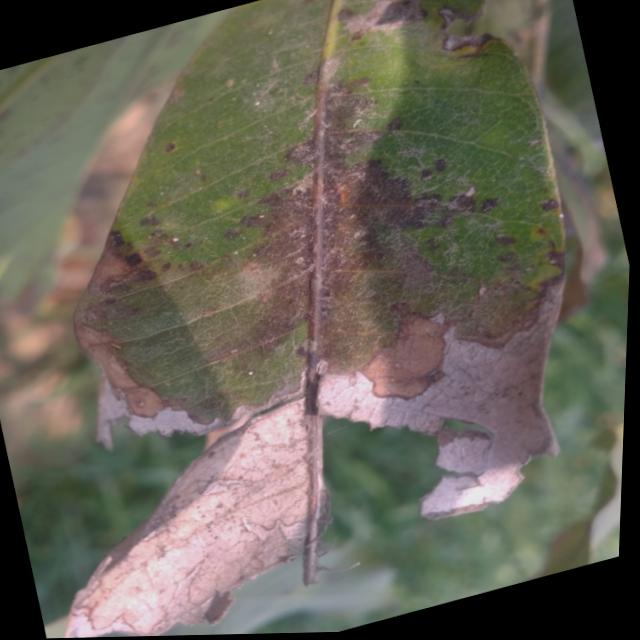Anthracnose: (101, 222, 191, 298), (484, 218, 572, 286), (535, 197, 563, 218)
